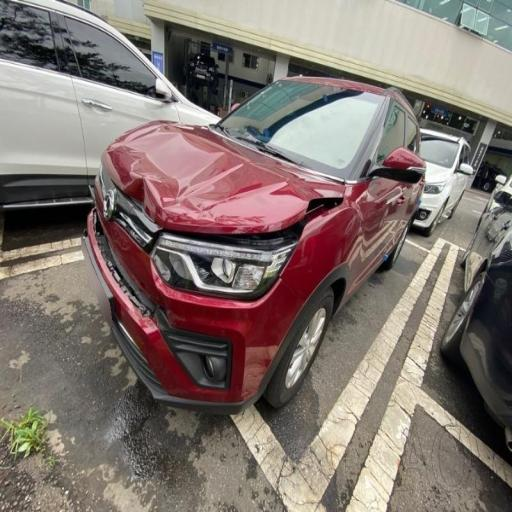broken: (97, 268, 287, 421)
dent: (113, 151, 276, 298)
